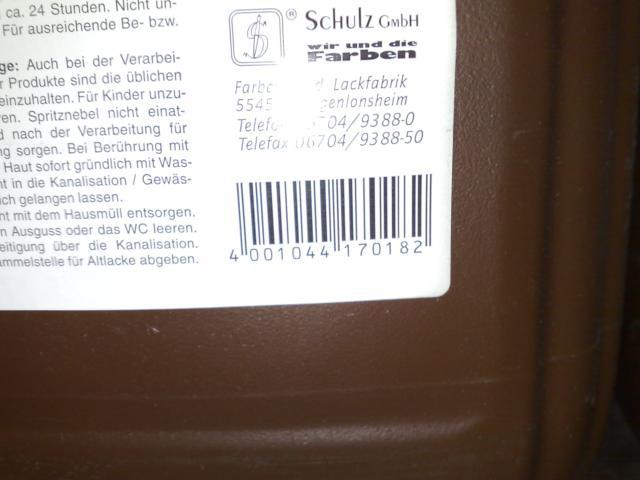Barkod: (235, 172, 432, 246)
